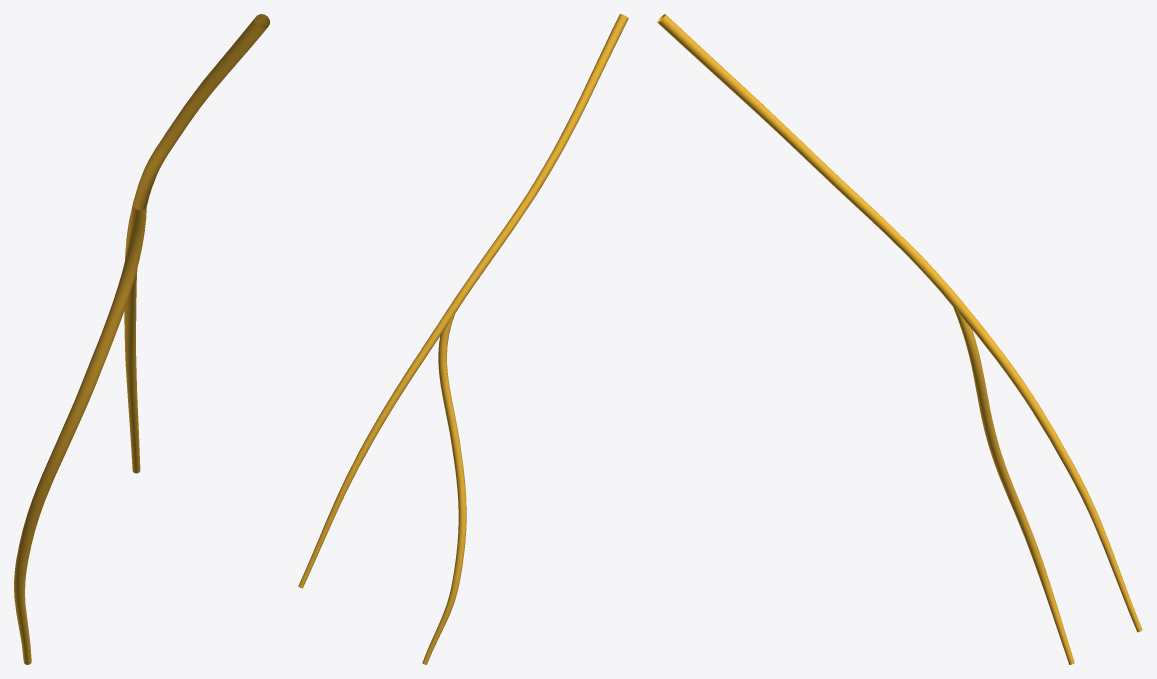
File: nervoso-inferior-subscapular-nerve-r.glb
3 views of the same model, side by side, from view 1: azimuth 30°, elevation 25°; view 2: azimuth 150°, elevation 25°; view 3: azimuth 270°, elevation 25° (orthographic). The views are drawn at different scales.
Visible parts, largest first — view 1: Inferior subscapular nerve.r; view 2: Inferior subscapular nerve.r; view 3: Inferior subscapular nerve.r.
Boxes of the visible parts, x1,y1,x2,y2 form: Inferior subscapular nerve.r: (14,14,269,664); Inferior subscapular nerve.r: (298,14,628,664); Inferior subscapular nerve.r: (657,14,1142,664).
Size of the model in its own units: 0.0241 by 0.0947 by 0.0657.
